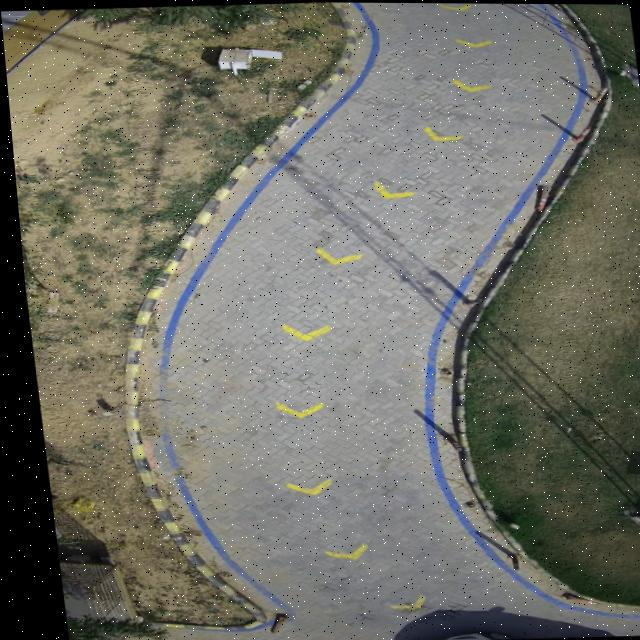car: (430, 631, 498, 640)
